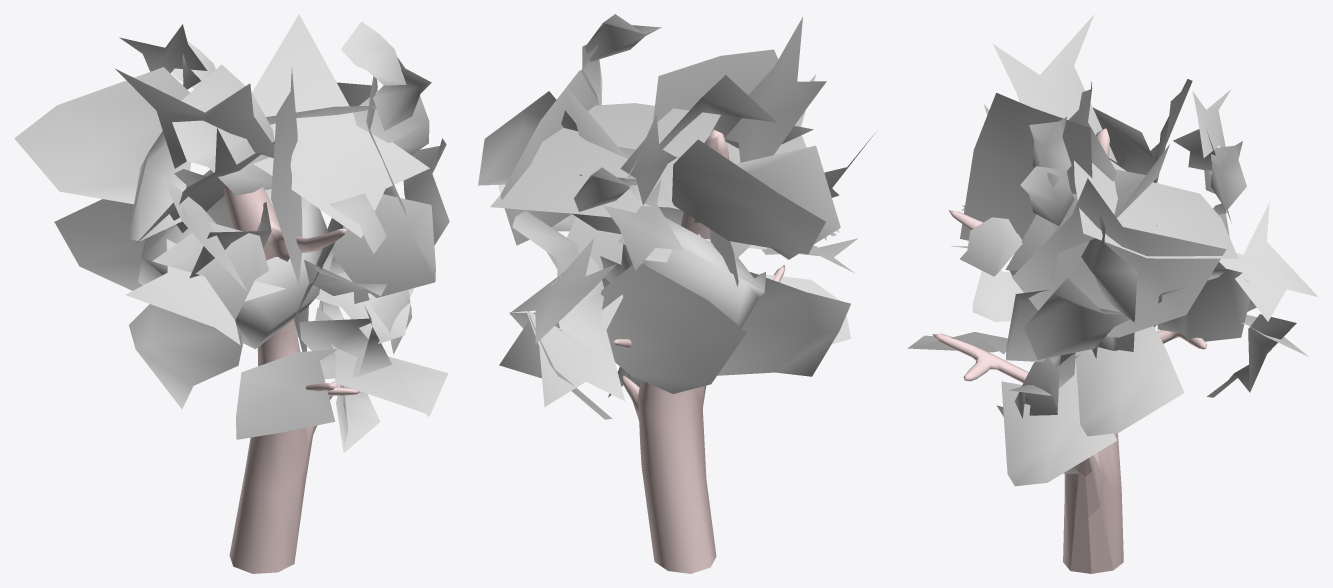
The model's file is puu.fbx.
3 views of the same model, side by side, from view 1: azimuth 30°, elevation 25°; view 2: azimuth 150°, elevation 25°; view 3: azimuth 270°, elevation 25° (orthographic). The views are drawn at different scales.
Parts seen in each view (by area): view 1: Plane.001, Cube.006; view 2: Plane.001, Cube.006; view 3: Plane.001, Cube.006.
Boxes of the visible parts, x1=… form: Plane.001: x1=14, y1=14, x2=449, y2=452; Cube.006: x1=224, y1=186, x2=360, y2=573; Plane.001: x1=478, y1=14, x2=874, y2=419; Cube.006: x1=613, y1=129, x2=785, y2=573; Plane.001: x1=907, y1=14, x2=1317, y2=486; Cube.006: x1=932, y1=128, x2=1207, y2=573.
Size of the model in its own units: 2437 by 3212 by 2449.
